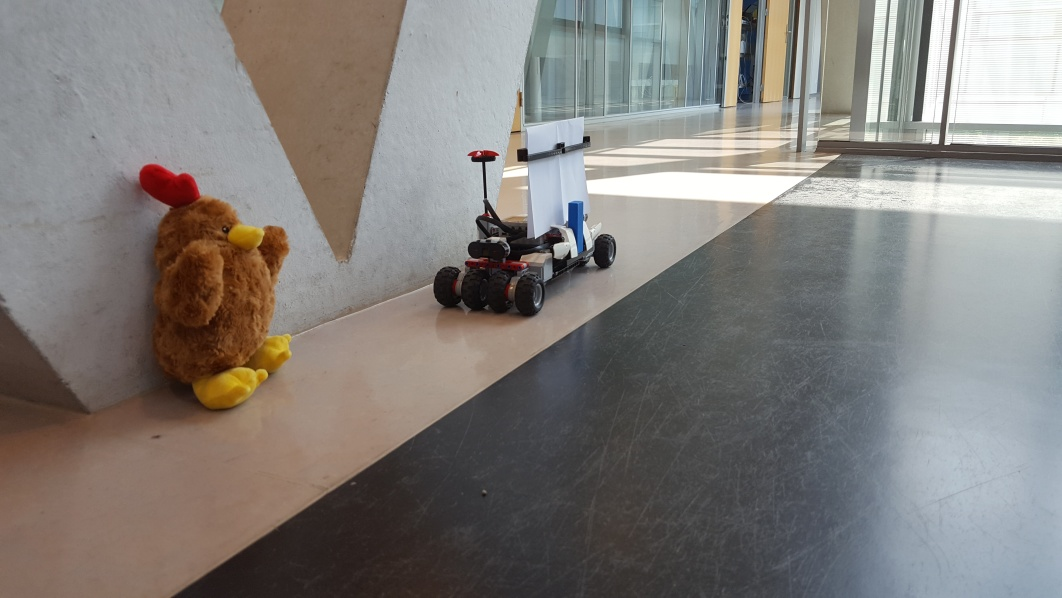car: (434, 114, 618, 313)
chicken: (137, 163, 296, 411)
